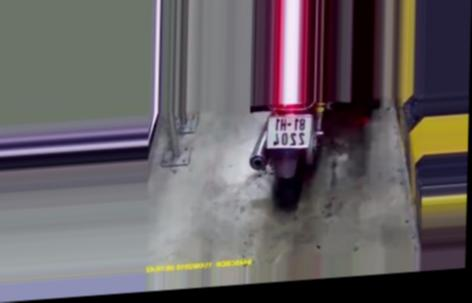License_Plate: (263, 111, 320, 151)
